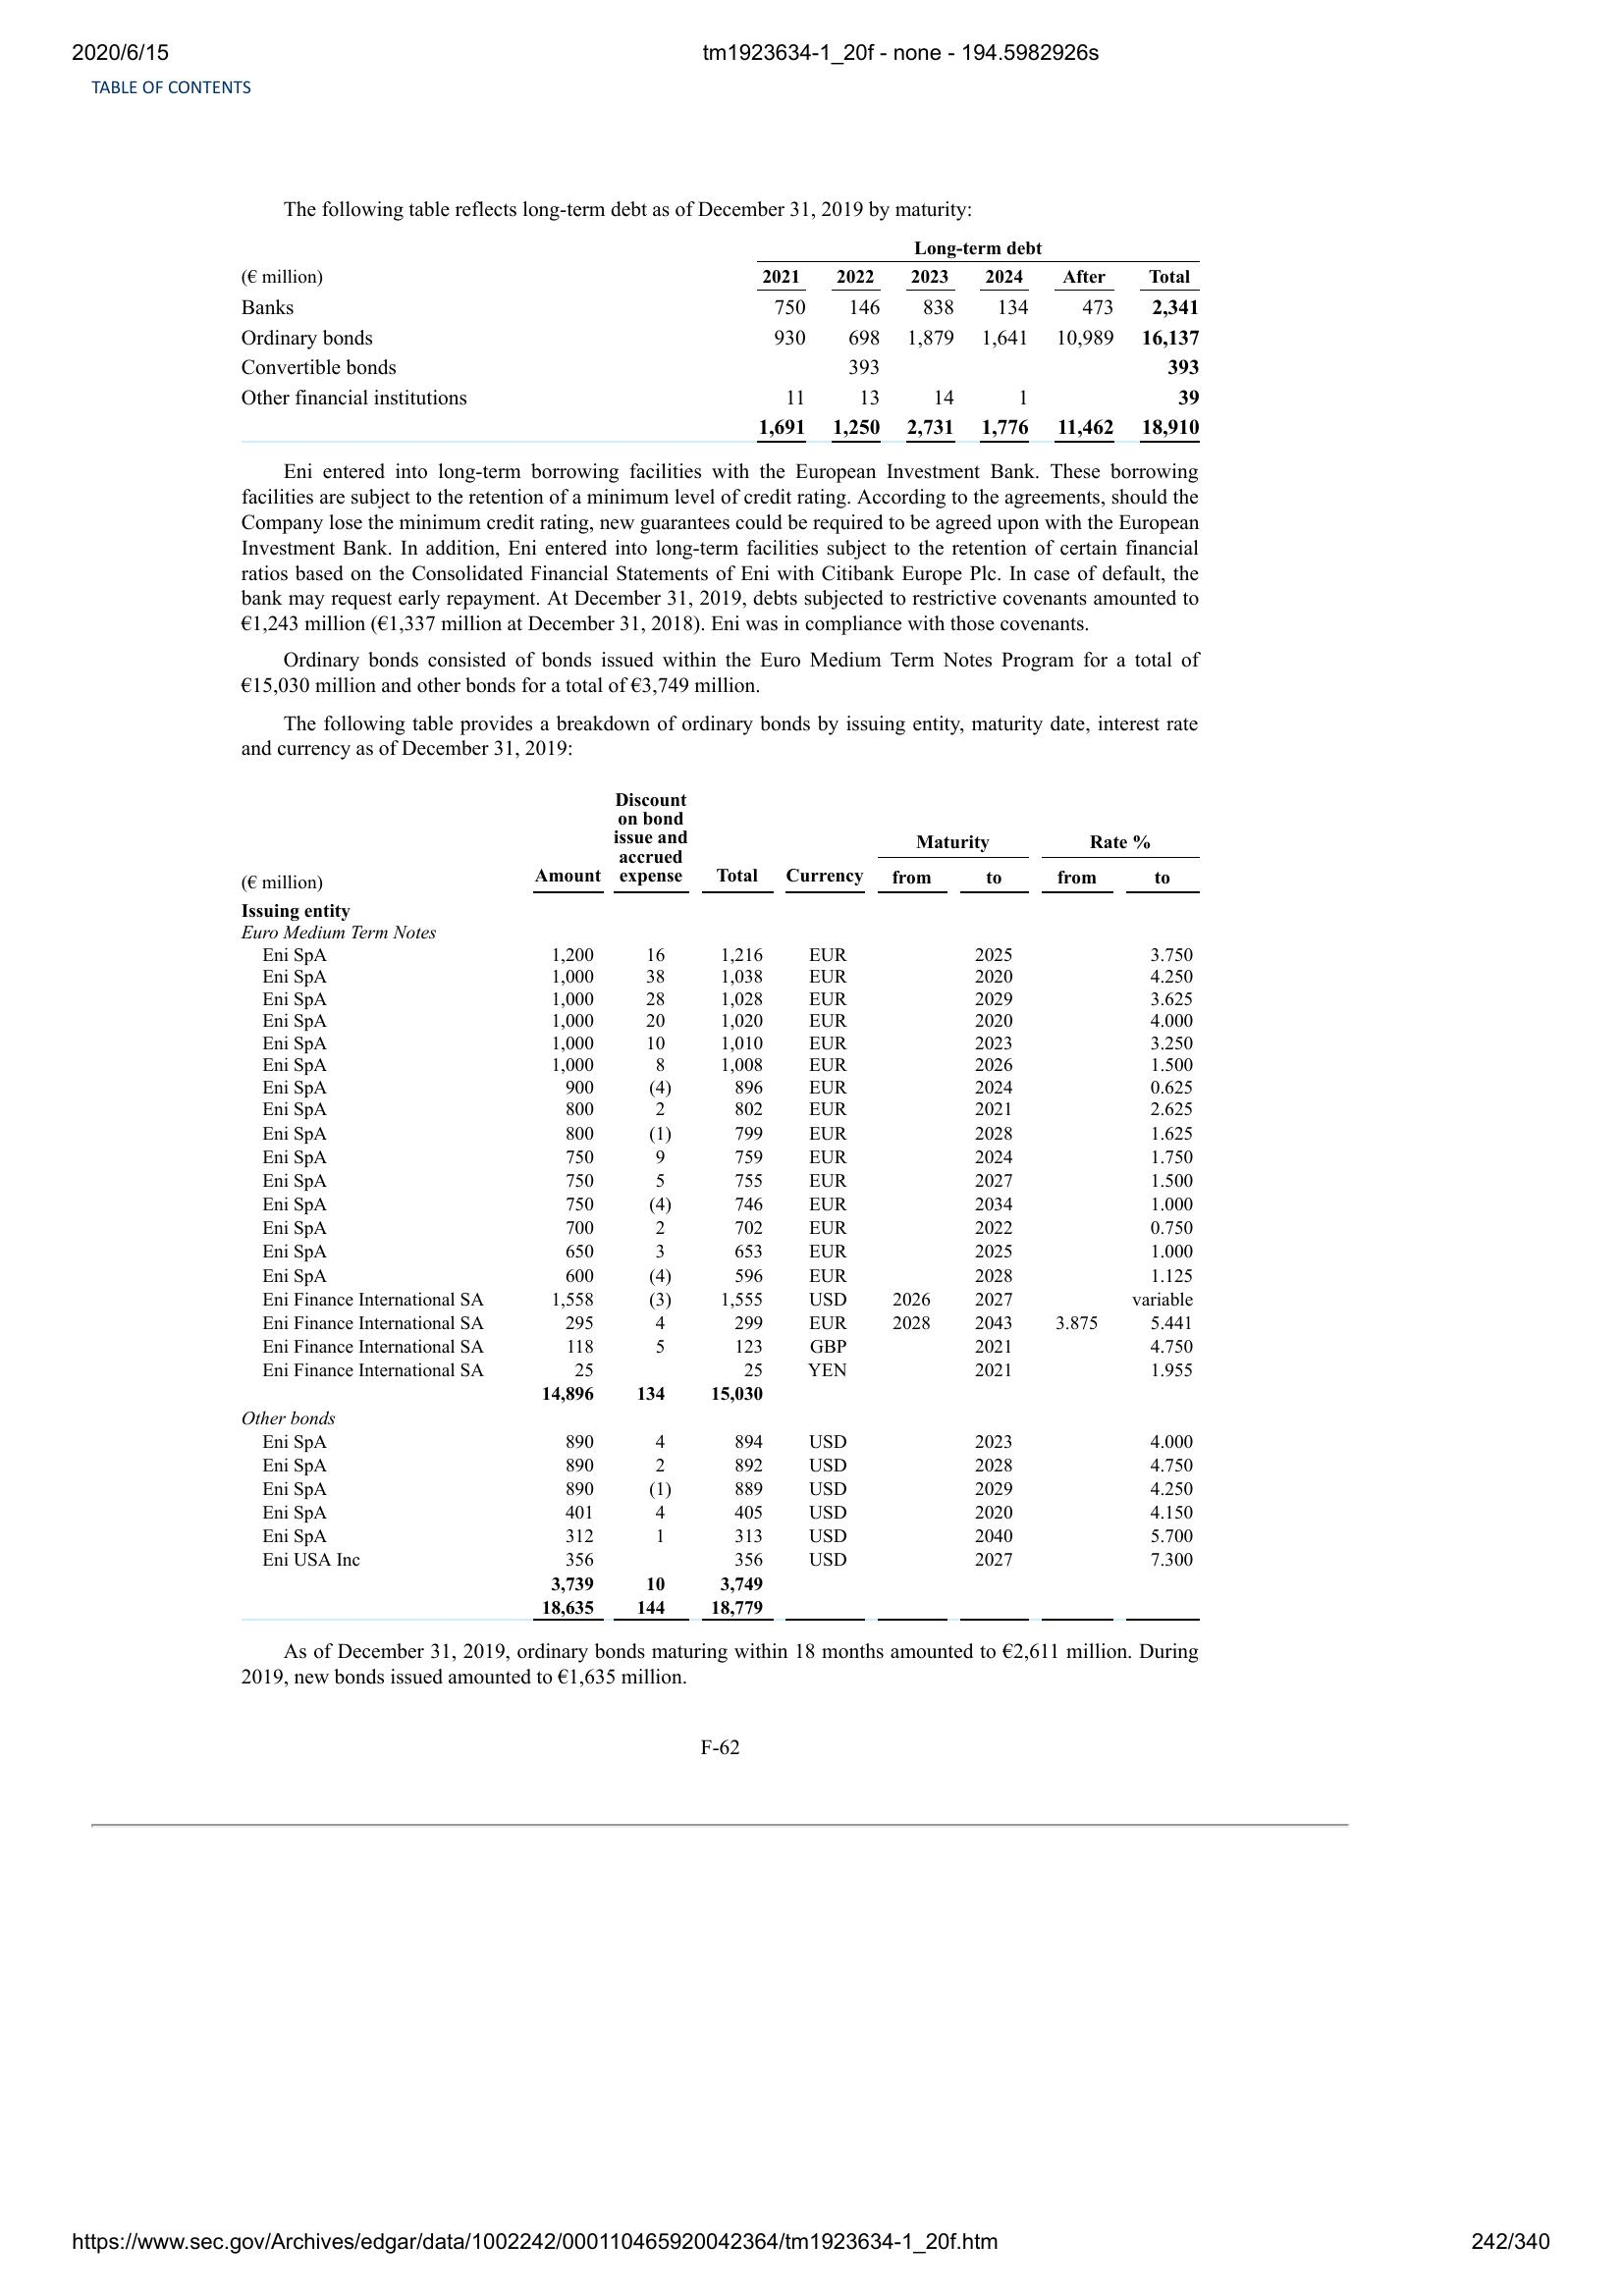table: (230, 786, 1210, 1631), (234, 239, 1203, 448)
